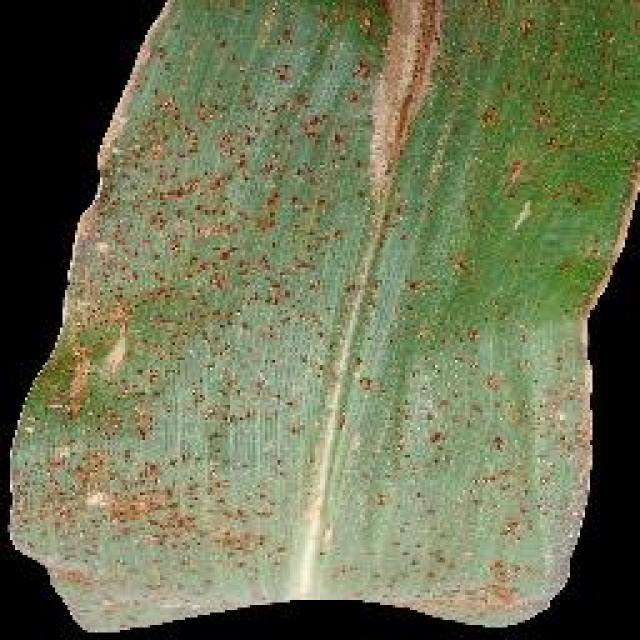Corn Common Rust: (71, 42, 522, 585)
